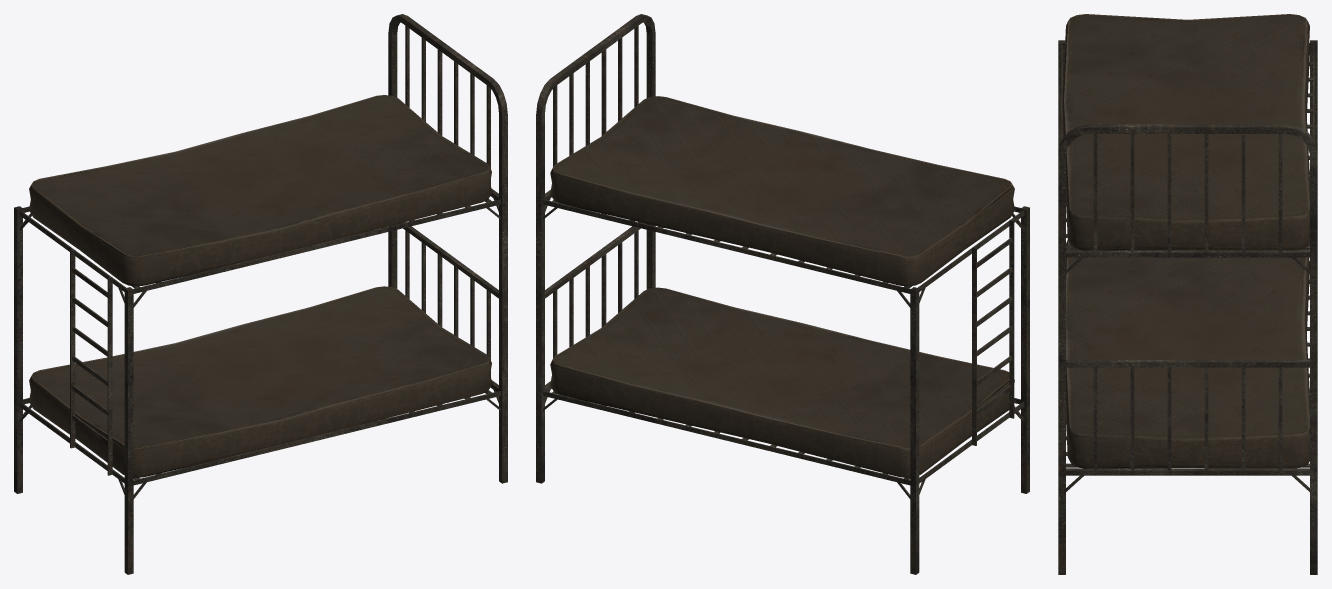
Rendered from bed_2.glb.
3 views of the same model, side by side, from view 1: azimuth 30°, elevation 25°; view 2: azimuth 150°, elevation 25°; view 3: azimuth 270°, elevation 25° (orthographic). The views are drawn at different scales.
Visible parts, largest first — view 1: bed_2; view 2: bed_2; view 3: bed_2.
Part boxes in pixels (<box>): bed_2: <box>14,14,507,574</box>; bed_2: <box>536,14,1029,574</box>; bed_2: <box>1058,14,1317,574</box>.
Size of the model in its own units: 2.72 by 2.67 by 1.4.
2 materials, 2 textured.
